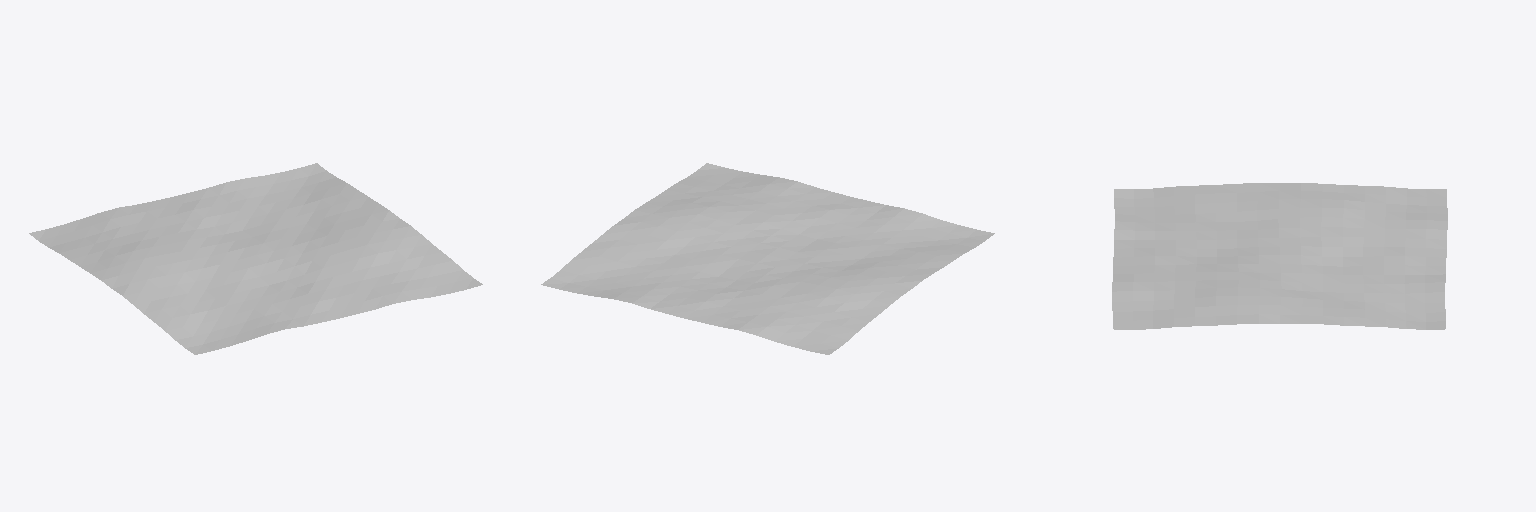
The model's file is water_000212.obj.
3 renders of one model, left to right at view 1: azimuth 30°, elevation 25°; view 2: azimuth 150°, elevation 25°; view 3: azimuth 270°, elevation 25°, orthographic.
Visible parts, largest first — view 1: Plan.003_Plan.001; view 2: Plan.003_Plan.001; view 3: Plan.003_Plan.001.
Part boxes in pixels (left/top/right/bottom): Plan.003_Plan.001: left=29, top=163, right=482, bottom=354; Plan.003_Plan.001: left=541, top=163, right=994, bottom=354; Plan.003_Plan.001: left=1112, top=183, right=1447, bottom=329.
Size of the model in its own units: 60390 by 1774 by 60788.